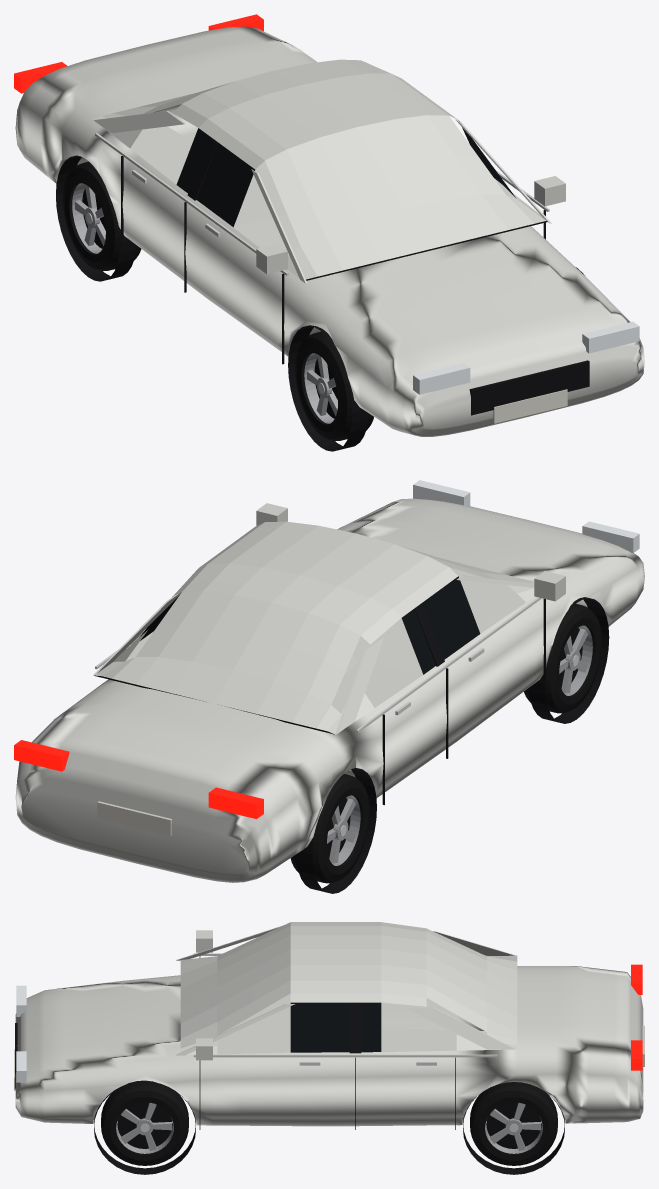
The model's file is vehicle_Traffic_Sedan_White.glb.
3 views of the same model, one above another, from view 1: azimuth 30°, elevation 25°; view 2: azimuth 150°, elevation 25°; view 3: azimuth 270°, elevation 25° (orthographic). The views are drawn at different scales.
Visible parts, largest first — view 1: Traffic_Sedan_White_Body, Traffic_Sedan_White_Cabin, Traffic_Sedan_White_Trim, Traffic_Sedan_White_Wheel_FR, Traffic_Sedan_White_Wheel_RR; view 2: Traffic_Sedan_White_Body, Traffic_Sedan_White_Cabin, Traffic_Sedan_White_Trim, Traffic_Sedan_White_Wheel_RR, Traffic_Sedan_White_Wheel_FR; view 3: Traffic_Sedan_White_Body, Traffic_Sedan_White_Cabin, Traffic_Sedan_White_Wheel_FL, Traffic_Sedan_White_Wheel_RL, Traffic_Sedan_White_Trim.
Boxes of the visible parts, x1,y1,x2,y2 form: Traffic_Sedan_White_Body: [15, 26, 644, 436]; Traffic_Sedan_White_Cabin: [93, 59, 551, 283]; Traffic_Sedan_White_Trim: [14, 14, 639, 451]; Traffic_Sedan_White_Wheel_FR: [295, 331, 373, 440]; Traffic_Sedan_White_Wheel_RR: [63, 161, 141, 270]; Traffic_Sedan_White_Body: [15, 498, 644, 882]; Traffic_Sedan_White_Cabin: [93, 521, 534, 734]; Traffic_Sedan_White_Trim: [14, 480, 639, 893]; Traffic_Sedan_White_Wheel_RR: [290, 774, 369, 883]; Traffic_Sedan_White_Wheel_FR: [524, 604, 601, 713]; Traffic_Sedan_White_Body: [15, 966, 643, 1126]; Traffic_Sedan_White_Cabin: [176, 922, 517, 1055]; Traffic_Sedan_White_Wheel_FL: [101, 1082, 188, 1165]; Traffic_Sedan_White_Wheel_RL: [470, 1082, 557, 1165]; Traffic_Sedan_White_Trim: [14, 930, 644, 1174].
Bounding box in the file's own units: 2.12 × 1.5 × 4.87.
